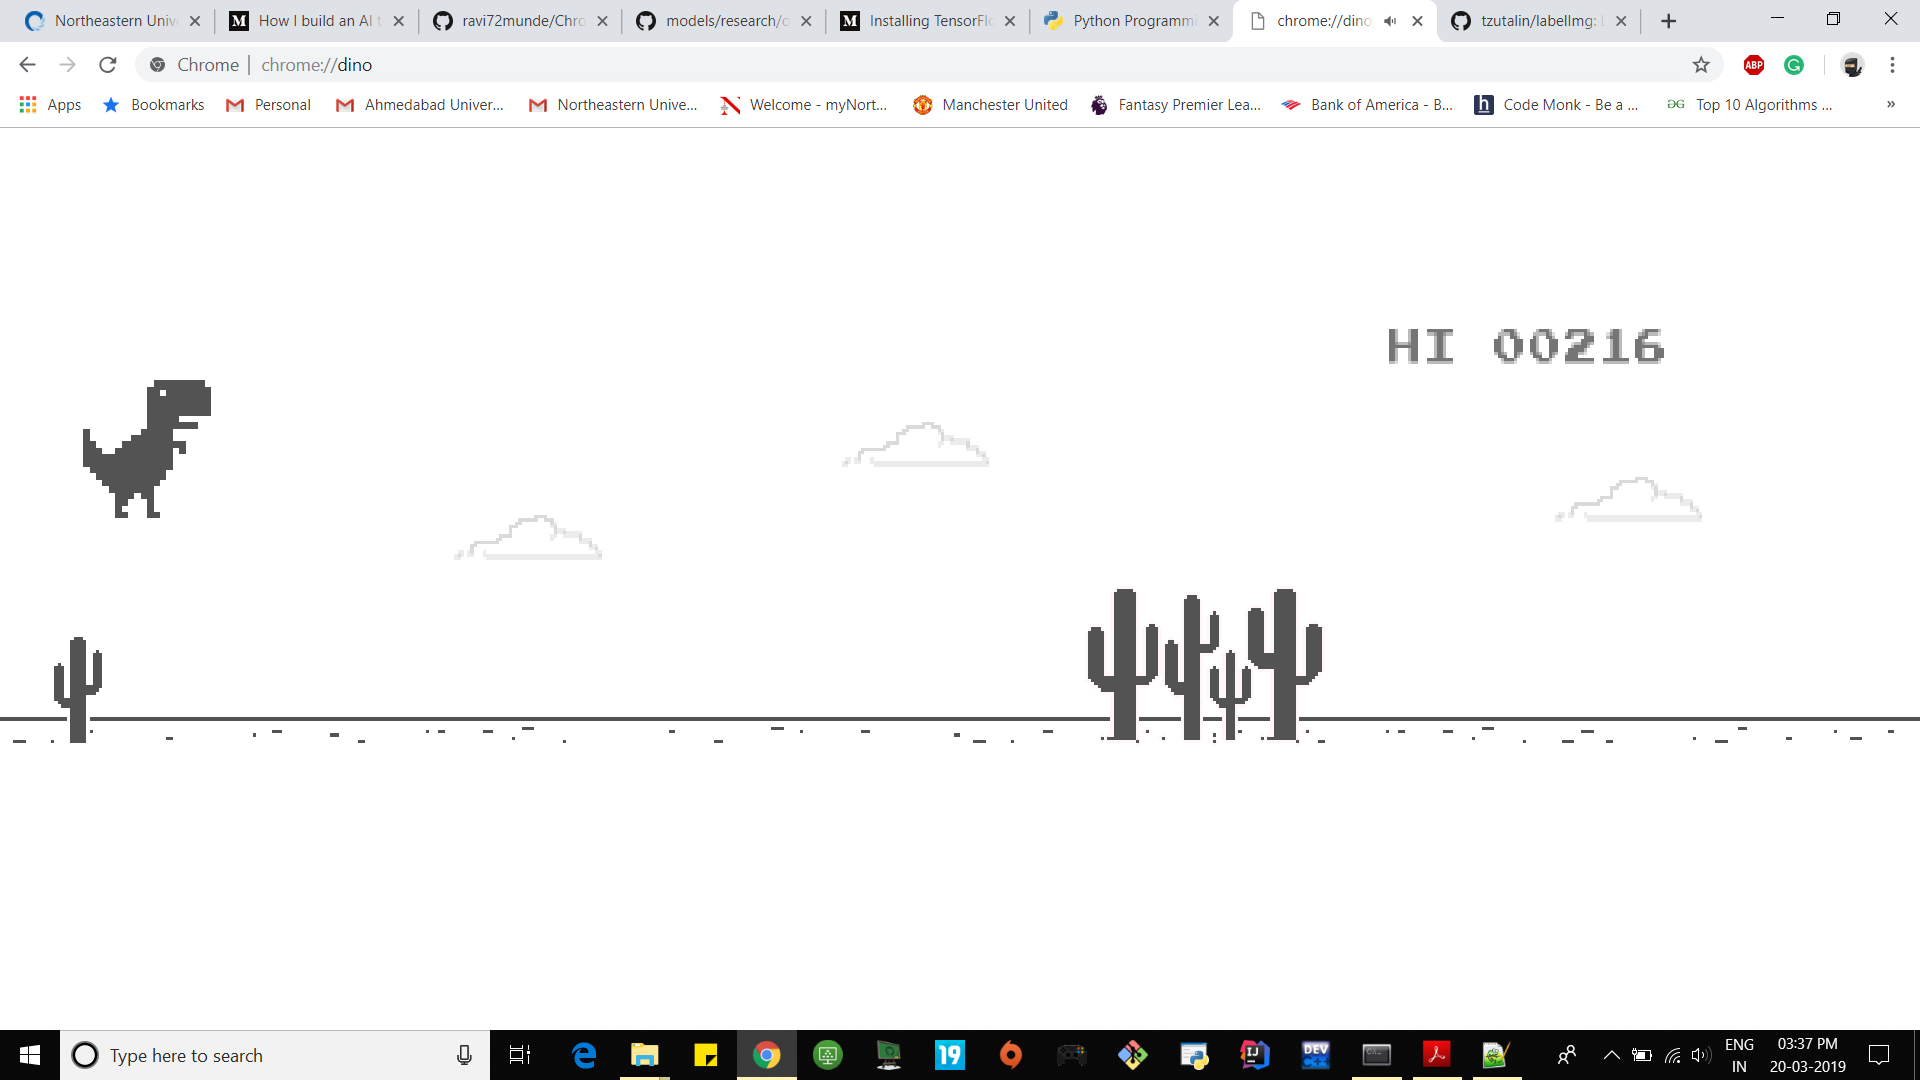cactus-4: (1089, 585, 1324, 740)
cactus-small: (53, 637, 105, 745)
dino: (82, 381, 210, 520)
